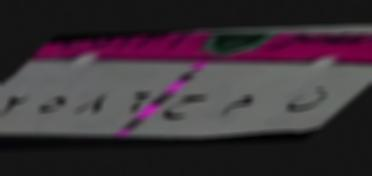2: (0, 87, 30, 120)
5: (33, 86, 68, 122)
6: (126, 84, 152, 116)
8: (74, 88, 112, 122)
ain: (162, 87, 207, 130)
meem: (216, 88, 265, 121)
noon: (281, 78, 332, 122)
